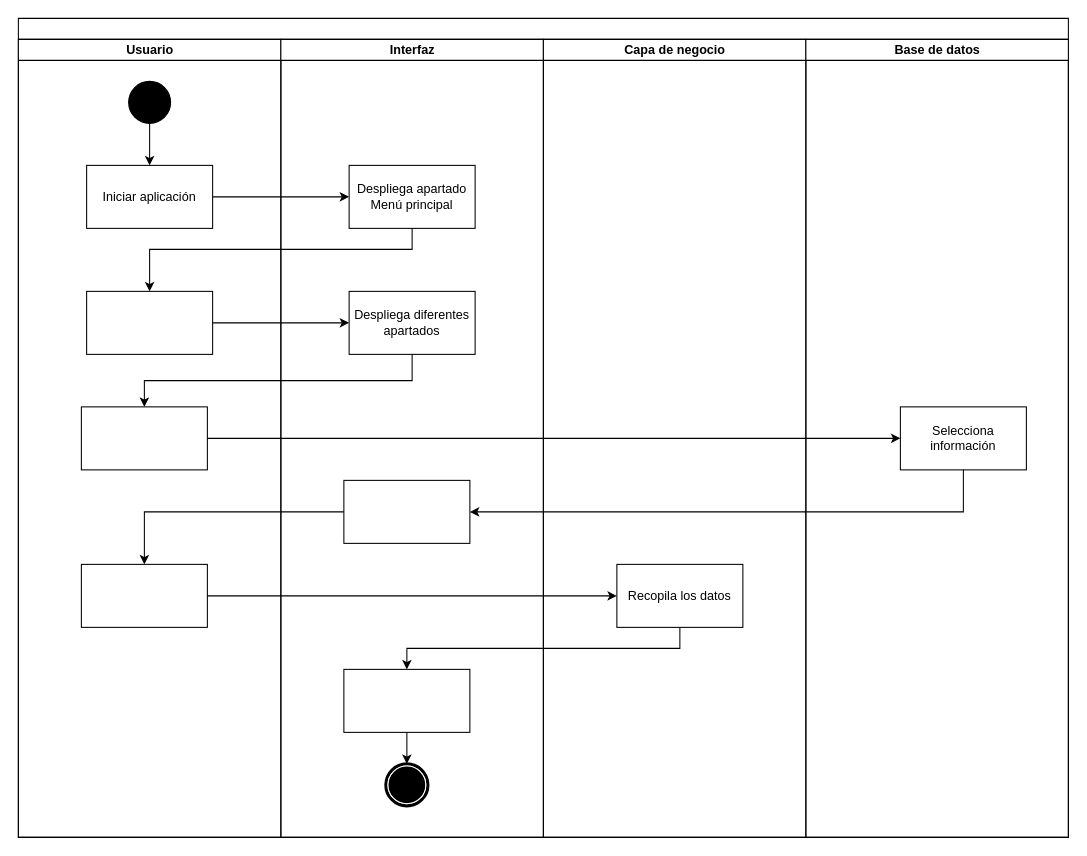
Some shapes in this 1087 by 856 pixel diagram are drawn without their labels. Here are the shapes that lost their labels. From the top down, the centre of each, then its label:
pixel 149 322: Seleccionar apartado de información
pixel 143 438: Seleccionar icono de guia
pixel 406 511: Sistema muestra opciones de ayuda o guia
pixel 143 595: Selecciona una opción
pixel 406 700: Sistema muestra la información
